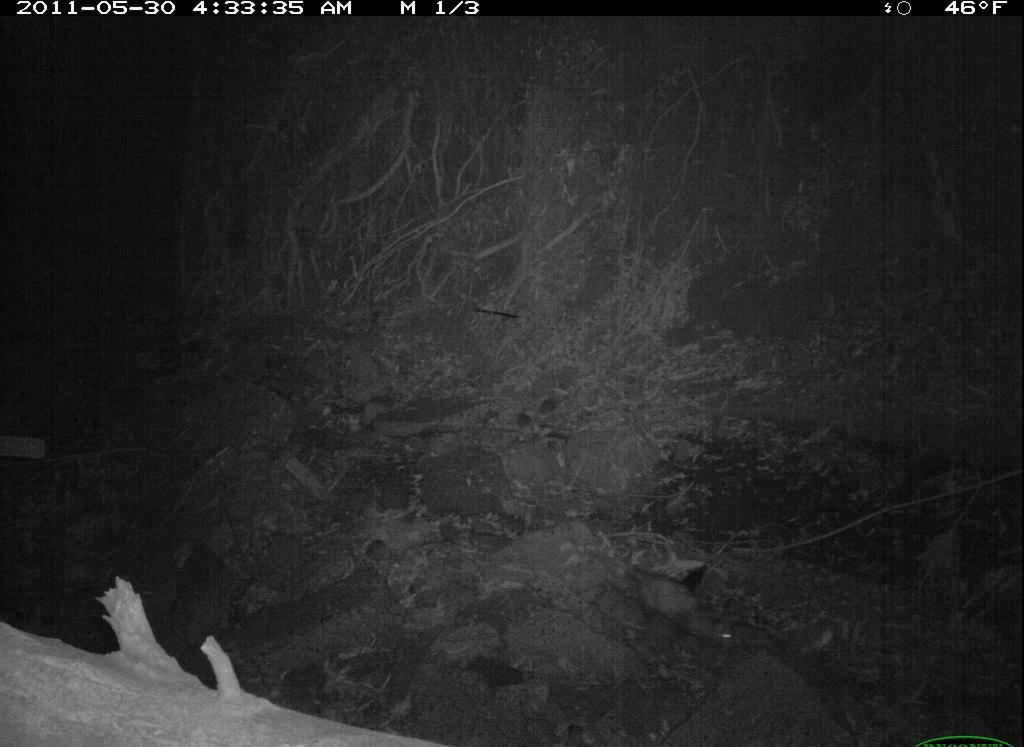opossum: (614, 545, 745, 667)
